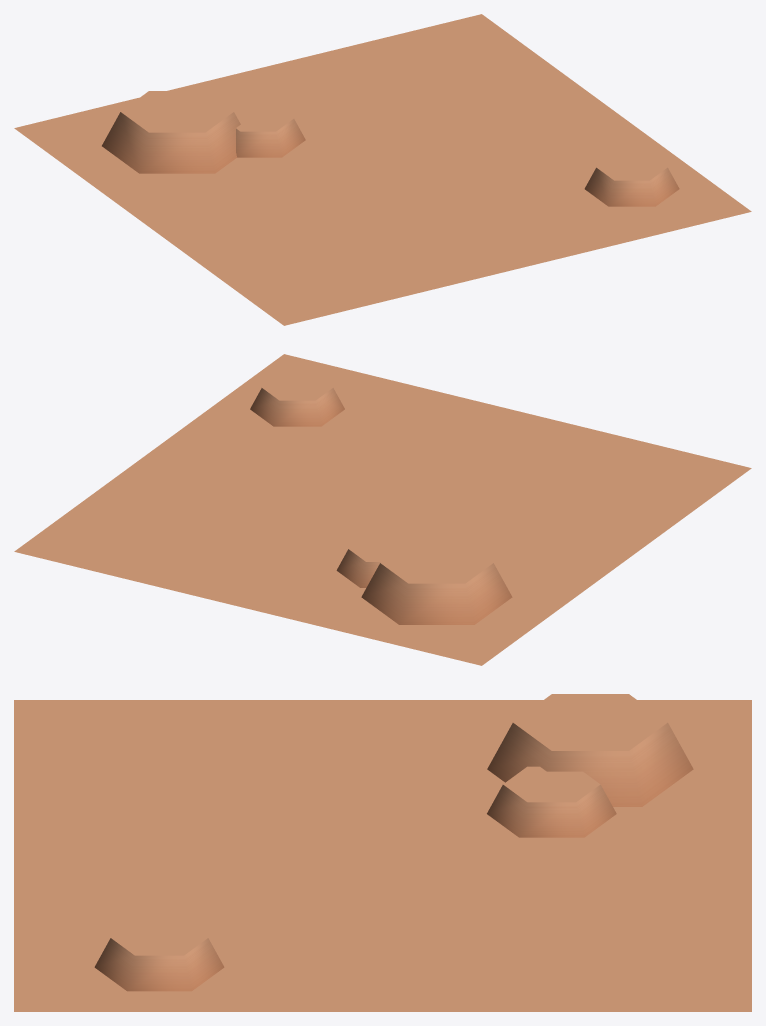
File: floor-detail.obj
3 renders of one model, top to bottom at view 1: azimuth 30°, elevation 25°; view 2: azimuth 150°, elevation 25°; view 3: azimuth 270°, elevation 25°, orthographic. The views are drawn at different scales.
Visible parts, largest first — view 1: floor-detail; view 2: floor-detail; view 3: floor-detail.
Boxes of the visible parts, <box> form: floor-detail: <box>14,14,751,325</box>; floor-detail: <box>14,354,751,665</box>; floor-detail: <box>14,694,751,1011</box>.
Size of the model in its own units: 1 by 0.07 by 1.
1 material, 1 textured.
